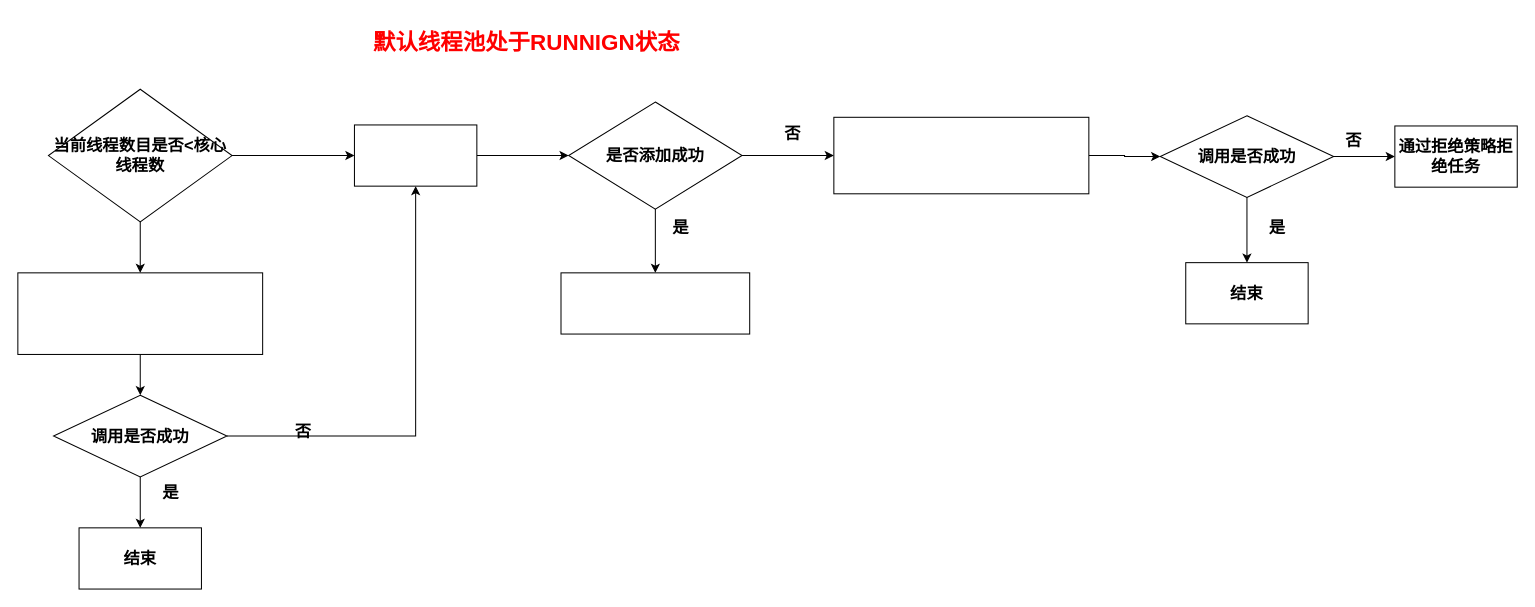
This 1535x607 diagram has some shape labels left out. The shapes that lost their labels are listed below. From the top down, each one's centre as x and y in pixels, then its label:
At (x=415, y=155): "向阻塞队列中添加任务".
At (x=961, y=155): "调用addWorker(command,false)创建非核心线程执行任务".
At (x=140, y=313): "调用addWorker(command,true)创建核心线程执行任务".
At (x=655, y=303): "任务在阻塞队列中等待空闲线程执行".
